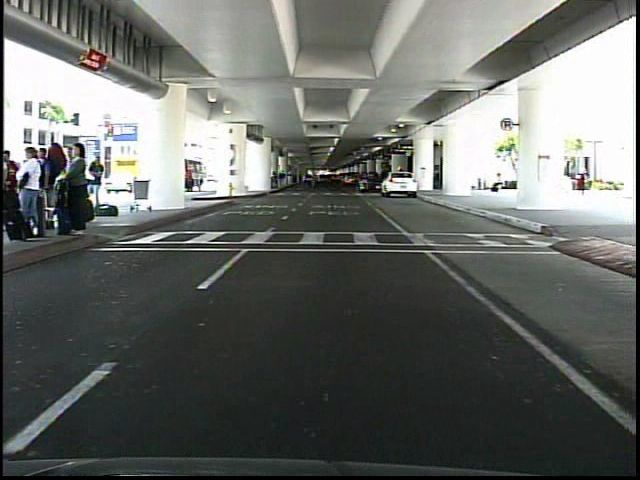person: (570, 162, 593, 201), (488, 167, 505, 199)
